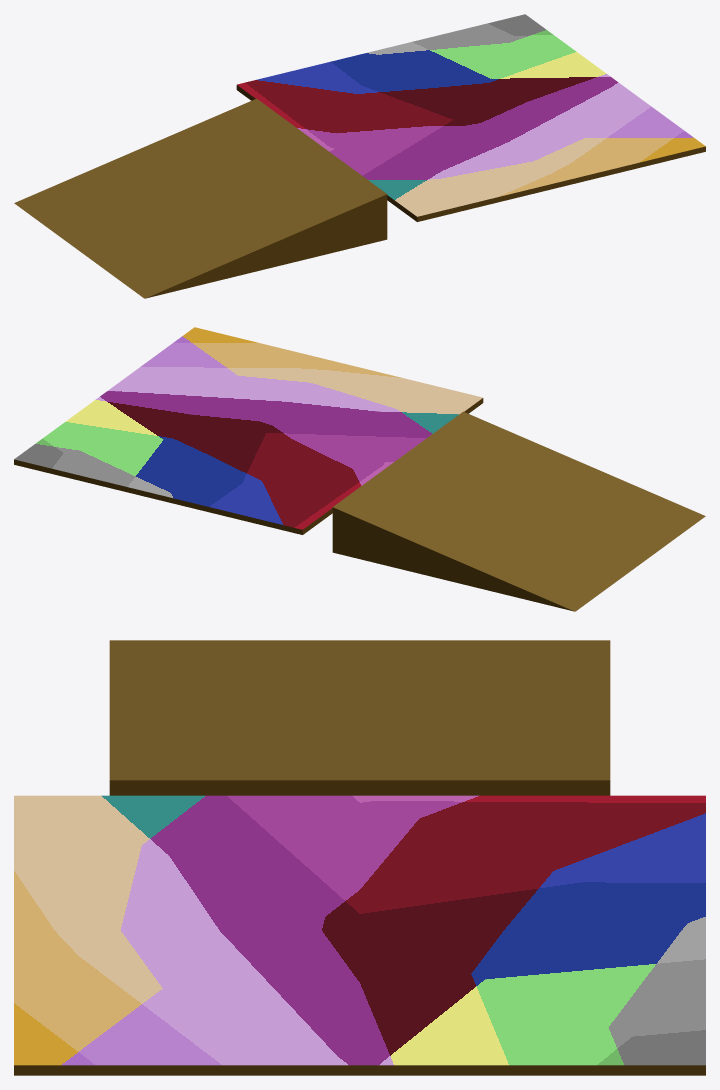
The model's file is pendule2D.fbx.
3 views of the same model, one above another, from view 1: azimuth 30°, elevation 25°; view 2: azimuth 150°, elevation 25°; view 3: azimuth 270°, elevation 25° (orthographic). The views are drawn at different scales.
Parts seen in each view (by area): view 1: pendule2D, kicker; view 2: pendule2D, kicker; view 3: pendule2D, kicker.
Part boxes in pixels (x1,y1,x2,y2): pendule2D: (236,14,705,221); kicker: (14,98,387,298); pendule2D: (14,327,483,534); kicker: (332,411,705,611); pendule2D: (14,795,705,1075); kicker: (109,640,610,795).
Bounding box in the file's own units: 865 × 70.91 × 505.
